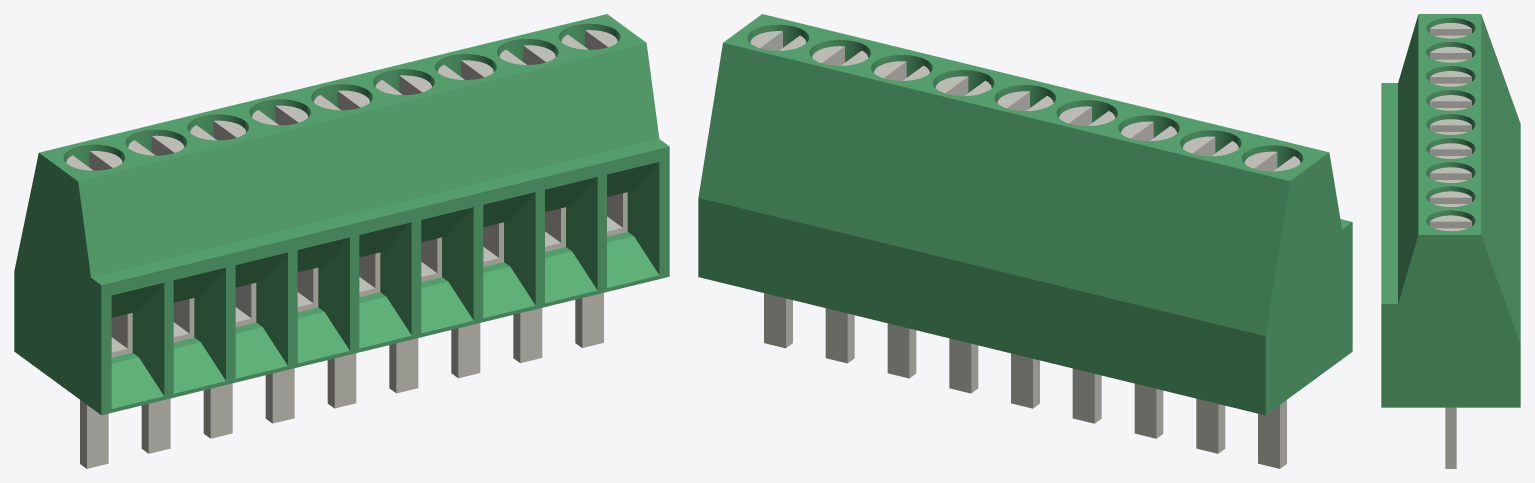
The model's file is kc-terminalblock_phoenix_mpt-0_5-9-2.54_1x09_p2.54mm_horizontal.glb.
The picture shows the model from 3 angles, left to right: view 1: azimuth 30°, elevation 25°; view 2: azimuth 150°, elevation 25°; view 3: azimuth 270°, elevation 25°; orthographic projection. The views are drawn at different scales.
Visible parts, largest first — view 1: 0.08333333333333333_0.4166666666666667_0.16666666666666666_0, 0.6666666666666666_0.6666666666666666_0.5833333333333334_0.8; view 2: 0.08333333333333333_0.4166666666666667_0.16666666666666666_0, 0.6666666666666666_0.6666666666666666_0.5833333333333334_0.8; view 3: 0.08333333333333333_0.4166666666666667_0.16666666666666666_0, 0.6666666666666666_0.6666666666666666_0.5833333333333334_0.8.
Part boxes in pixels (box(x1,y1,x2,y2)): 0.08333333333333333_0.4166666666666667_0.16666666666666666_0: box(14, 14, 669, 415); 0.6666666666666666_0.6666666666666666_0.5833333333333334_0.8: box(66, 30, 627, 468); 0.08333333333333333_0.4166666666666667_0.16666666666666666_0: box(698, 14, 1352, 415); 0.6666666666666666_0.6666666666666666_0.5833333333333334_0.8: box(750, 31, 1300, 468); 0.08333333333333333_0.4166666666666667_0.16666666666666666_0: box(1381, 14, 1520, 407); 0.6666666666666666_0.6666666666666666_0.5833333333333334_0.8: box(1430, 23, 1471, 468).
Bounding box in the file's own units: 2.33 × 1.2 × 0.6201.
